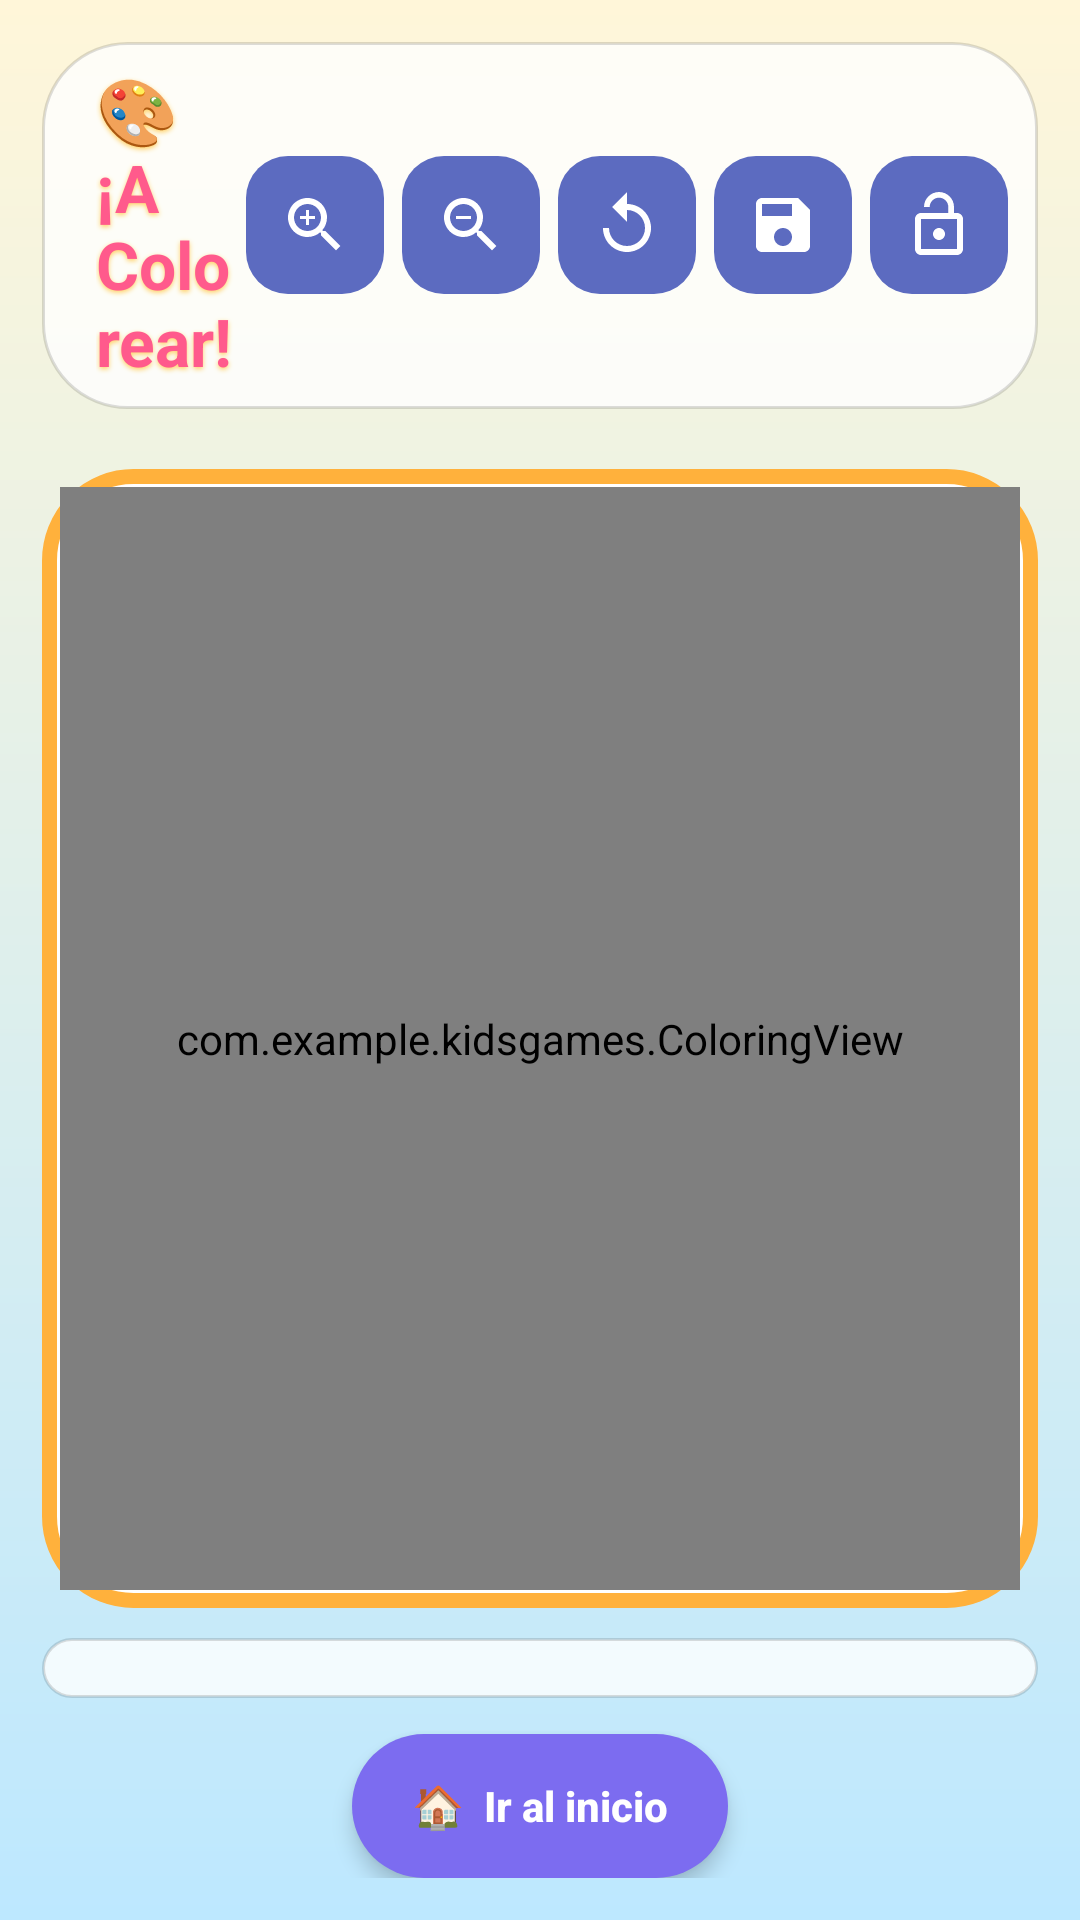

Icons on this 1080 x 1920 Android screen, each with the point to tap as (x,y):
Acercar: (315,225)
Alejar: (471,225)
Candado anti-errores (mantén 3 segundos para desbloquear): (939,225)
Guardar en la nevera: (783,225)
Reiniciar dibujo: (627,225)
